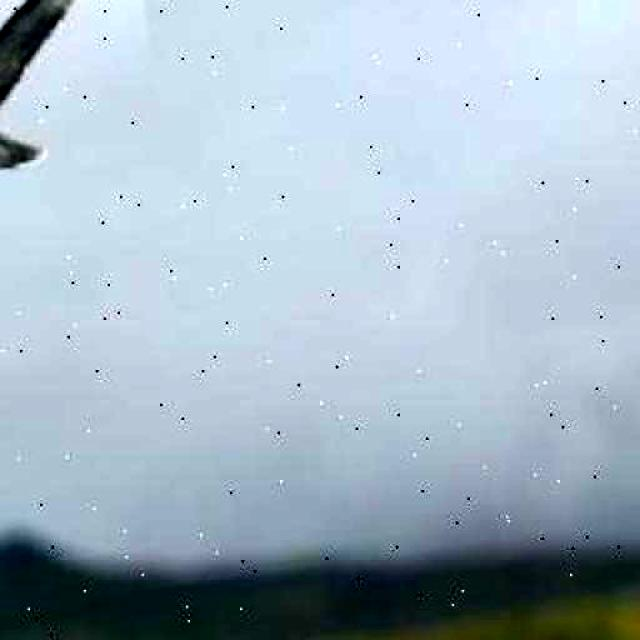airplane: (0, 0, 166, 204)
